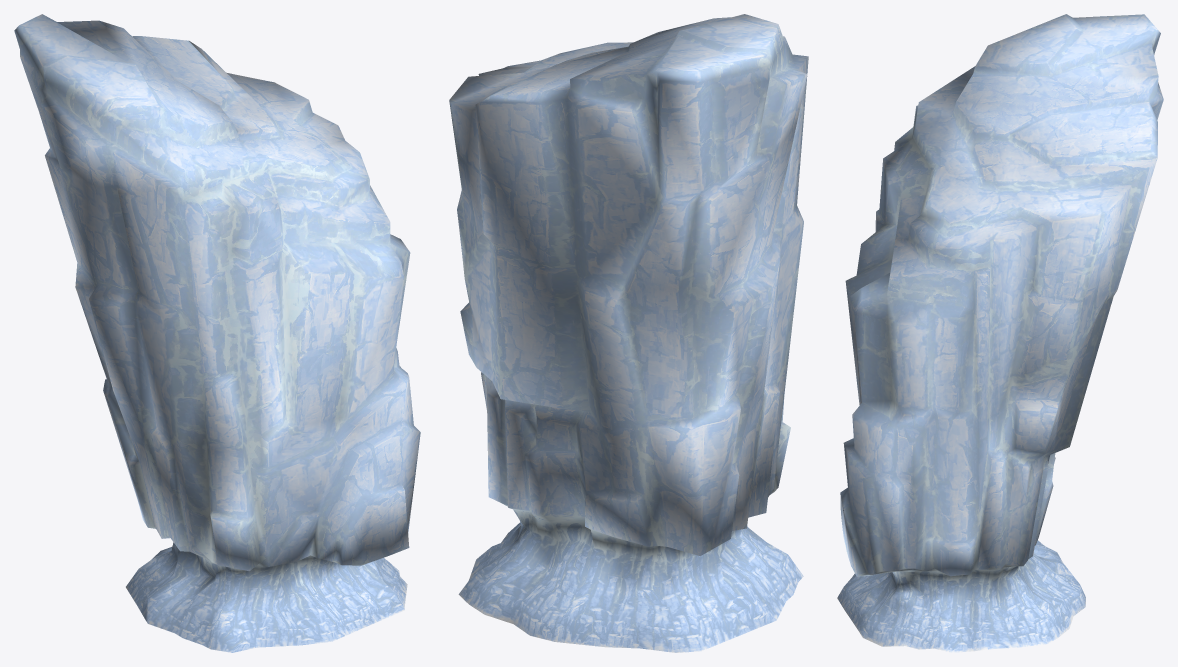
Rendered from bel_env_spire_01.glb.
3 renders of one model, left to right at view 1: azimuth 30°, elevation 25°; view 2: azimuth 150°, elevation 25°; view 3: azimuth 270°, elevation 25°, orthographic. The views are drawn at different scales.
Visible parts, largest first — view 1: bel_env_spire_01; view 2: bel_env_spire_01; view 3: bel_env_spire_01.
Part boxes in pixels (x1,y1,x2,y2): bel_env_spire_01: (14, 14, 420, 652); bel_env_spire_01: (449, 14, 808, 652); bel_env_spire_01: (837, 14, 1163, 652).
Size of the model in its own units: 7.44 by 13 by 7.46.
3 materials, 3 textured.
